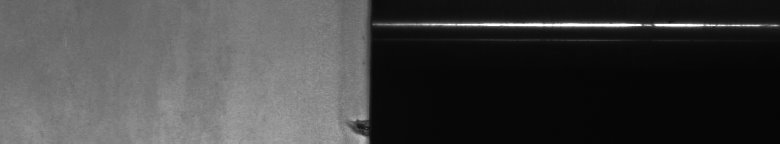hb: (333, 108, 360, 136)
